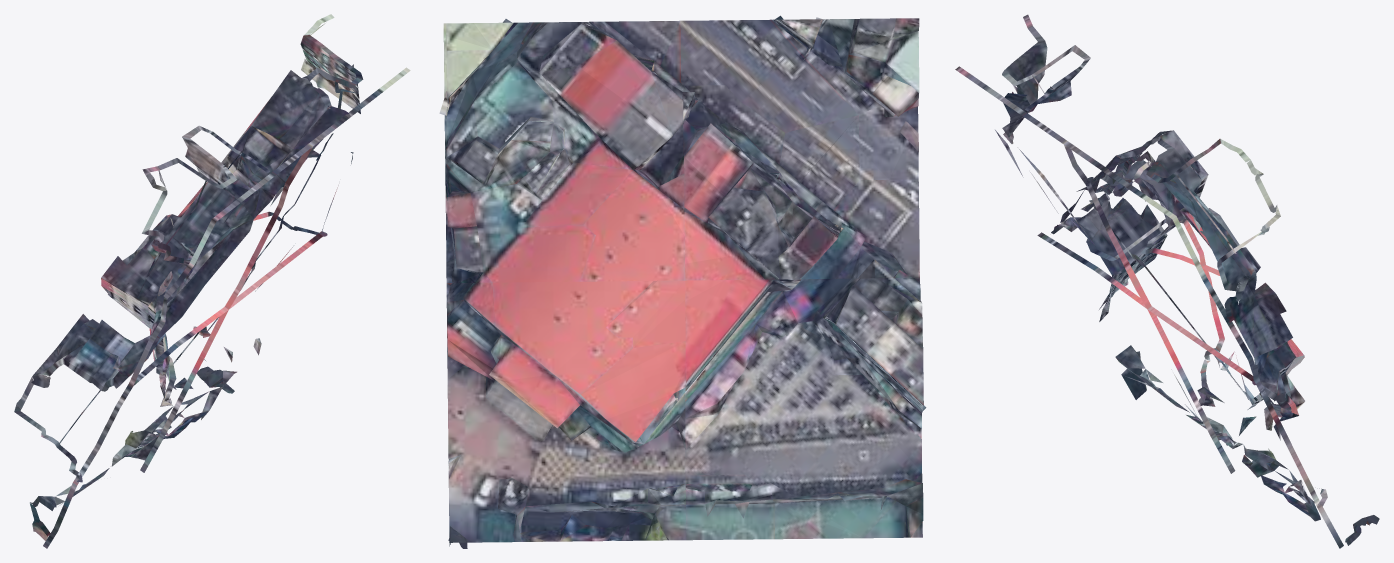
3 views of the same model, side by side, from view 1: azimuth 30°, elevation 25°; view 2: azimuth 150°, elevation 25°; view 3: azimuth 270°, elevation 25° (orthographic). The views are drawn at different scales.
Size of the model in its own units: 79.58 by 76.26 by 70.87.
Materials: 2 (2 with a texture image).
